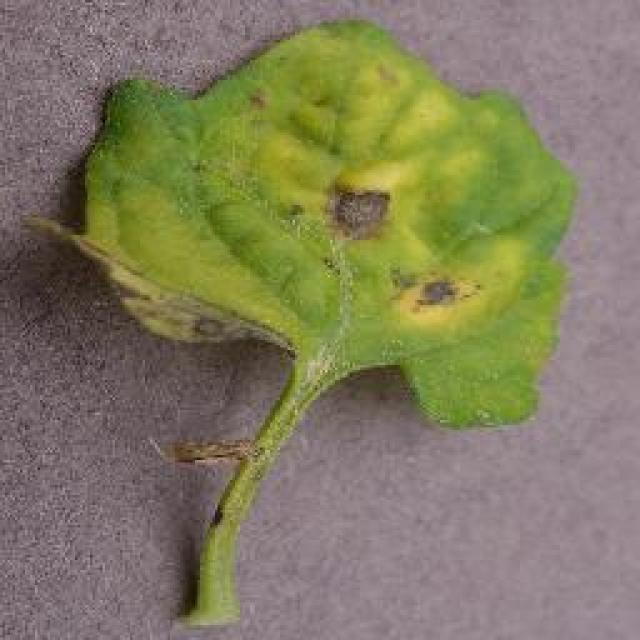Tomato___Septoria_leaf_spot: (25, 22, 572, 622)
